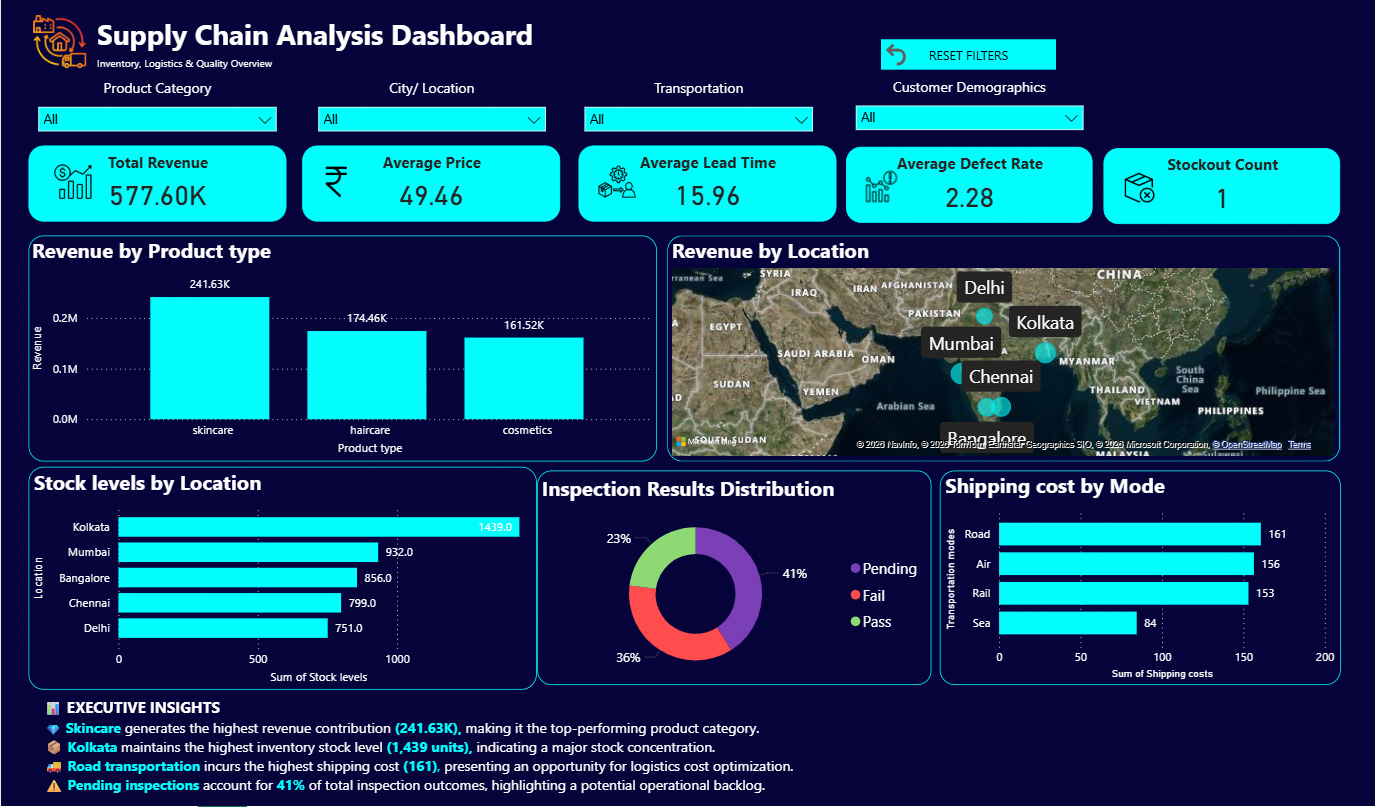

What the dashboard file says about the page in this screenshot:
{"tool":"powerbi","page":{"name":"Supply_chain_dashboard","canvas":[1450,850],"ordinal":0},"visuals":[{"type":"card","title":"Total Revenue","fields":{"Values":["Sum(Raw data.Revenue generated)"]},"box":[29,155,271,80],"z":0},{"type":"card","title":"Average Price","fields":{"Values":["Raw data.Average_price"]},"box":[317.2,155,270.9,79.7],"z":1000},{"type":"card","title":"Average Lead Time","fields":{"Values":["Raw data.Average_lead_time"]},"box":[606.9,155,271,79.7],"z":2000},{"type":"card","title":"Average Defect Rate","fields":{"Values":["Raw data.Average_defect_rate"]},"box":[888,156.4,259.3,79.7],"z":3000},{"type":"textbox","title":"Supply Chain Analysis Dashboard","box":[95.6,17.5,637,57.9],"z":4000},{"type":"clusteredColumnChart","title":"Revenue by Product type","fields":{"Category":["Raw data.Product type"],"Y":["Sum(Raw data.Revenue generated)"]},"box":[29,249.1,660.5,237.6],"z":5000},{"type":"clusteredBarChart","title":" Stock levels by Location","fields":{"Category":["Raw data.Location"],"Y":["Sum(Raw data.Stock levels)"]},"box":[29,492.5,534.5,234.7],"z":6000},{"type":"map","title":"Revenue by Location","fields":{"Category":["Raw data.Location"],"Size":["Sum(Raw data.Revenue generated)"]},"box":[701.1,249.1,706.9,237.6],"z":7000},{"type":"donutChart","title":"Inspection Results  Distribution","fields":{"Category":["Raw data.Inspection results"],"Y":["CountNonNull(Raw data.SKU)"]},"box":[573,492.6,404.4,230.5],"z":8000},{"type":"clusteredBarChart","title":"Shipping cost by Mode","fields":{"Category":["Raw data.Transportation modes"],"Y":["Sum(Raw data.Shipping costs)"]},"box":[986.5,496.8,421.5,226],"z":9000},{"type":"image","box":[55,173.8,40.6,39.1],"z":10000},{"type":"image","box":[617.1,173.8,59.4,39.1],"z":11000},{"type":"image","box":[908.2,181.1,34.8,33.3],"z":12000},{"type":"image","box":[327.4,172.4,47.8,40.6],"z":14000},{"type":"image","box":[28.3,17.5,66,57.9],"z":15000},{"type":"card","title":"Stockout Count","fields":{"Values":["Raw data.Stockout Count"]},"box":[1158.8,157.9,249.1,79.7],"z":16000},{"type":"image","box":[1177.7,181.1,39.1,37.7],"z":17000},{"type":"actionButton","box":[925.6,43.5,184,31.9],"z":18000},{"type":"slicer","title":"Product Category","fields":{"Values":["Raw data.Product type"]},"box":[29,84,270.9,62.3],"z":19000},{"type":"slicer","title":"City/ Location","fields":{"Values":["Raw data.Location"]},"box":[323,84,259.3,62.3],"z":20000},{"type":"slicer","title":"Customer Demographics ","fields":{"Values":["Raw data.Customer demographics"]},"box":[888,82.6,259.3,62.3],"z":21000},{"type":"slicer","title":"Transportation","fields":{"Values":["Raw data.Transportation modes"]},"box":[602.6,84,260.7,62.3],"z":22000},{"type":"textbox","box":[40.6,727.2,1297.9,123],"z":23000}]}

Visuals, with their boxes in screenshot pixels (x1, y1, x2, y2), scaled from the page's 1450x850 canvas onto the 1375x807 screenshot:
"Total Revenue" card: 28,147,284,223
"Average Price" card: 301,147,558,223
"Average Lead Time" card: 576,147,832,223
"Average Defect Rate" card: 842,148,1088,224
"Supply Chain Analysis Dashboard" textbox: 91,17,695,72
"Revenue by Product type" clusteredColumnChart: 28,236,654,462
" Stock levels by Location" clusteredBarChart: 28,468,534,690
"Revenue by Location" map: 665,236,1335,462
"Inspection Results  Distribution" donutChart: 543,468,927,687
"Shipping cost by Mode" clusteredBarChart: 935,472,1335,686
image: 52,165,91,202
image: 585,165,642,202
image: 861,172,894,204
image: 310,164,356,202
image: 27,17,89,72
"Stockout Count" card: 1099,150,1335,226
image: 1117,172,1154,208
actionButton: 878,41,1052,72
"Product Category" slicer: 28,80,284,139
"City/ Location" slicer: 306,80,552,139
"Customer Demographics " slicer: 842,78,1088,138
"Transportation" slicer: 571,80,819,139
textbox: 38,690,1269,806
